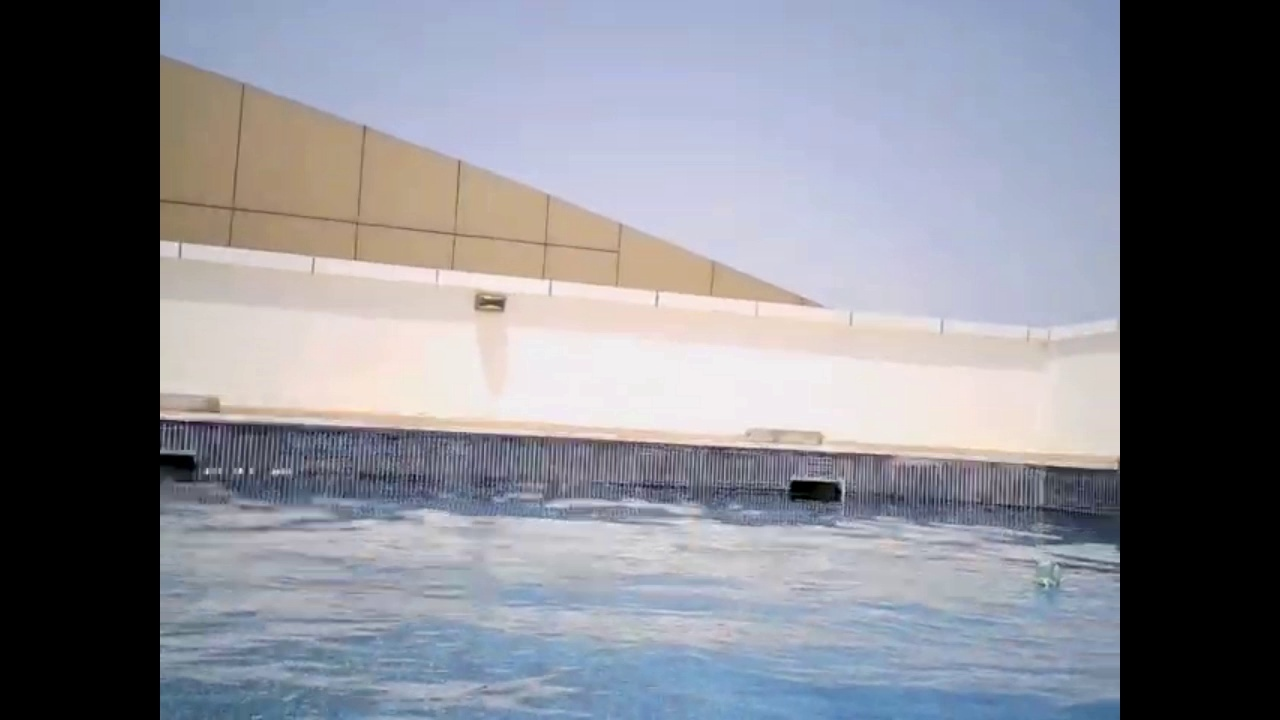debris: (1026, 556, 1066, 594), (226, 462, 258, 483), (266, 461, 296, 483), (197, 463, 227, 483)
